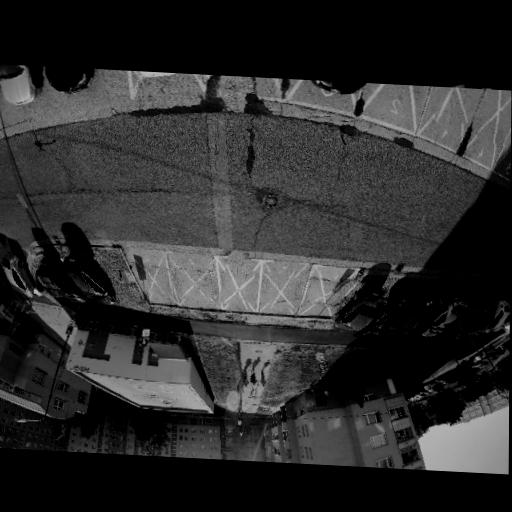busy: (336, 279, 388, 340), (397, 289, 448, 345), (64, 253, 114, 305), (0, 240, 41, 297), (36, 255, 82, 299), (42, 65, 98, 99), (0, 63, 41, 108), (445, 297, 484, 336), (433, 296, 472, 334), (374, 297, 411, 336), (476, 296, 510, 334)
free: (478, 89, 512, 146), (431, 84, 472, 129), (265, 267, 301, 312), (142, 251, 177, 296), (220, 265, 254, 309), (180, 260, 213, 302), (309, 270, 340, 308)
